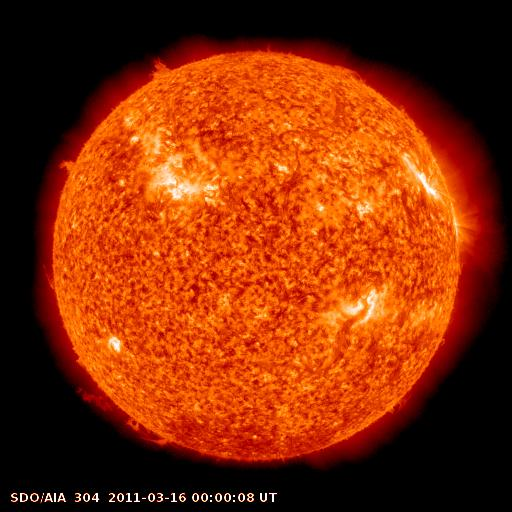prominence: (67, 377, 175, 452), (136, 47, 185, 92), (325, 54, 373, 91), (47, 150, 90, 184), (378, 391, 421, 421)
